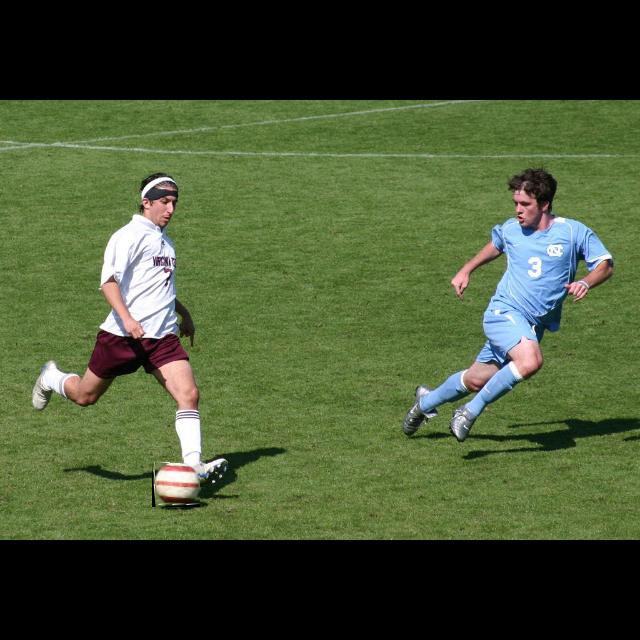Football: (152, 463, 200, 507)
